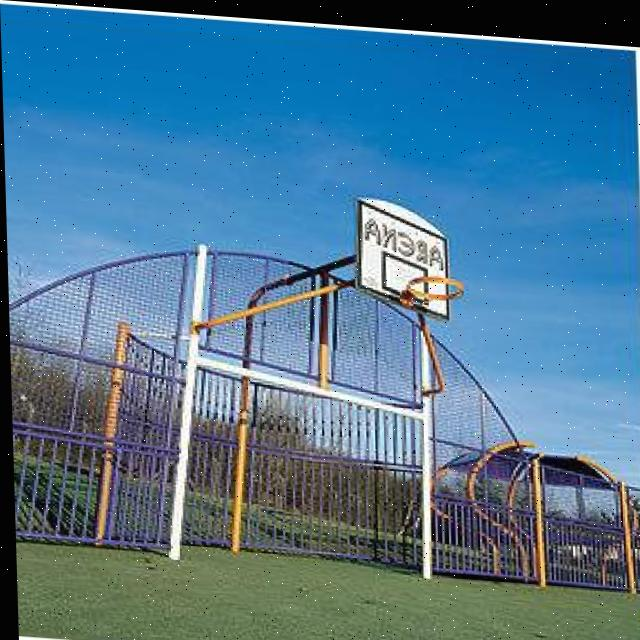hoop: (393, 266, 491, 350)
